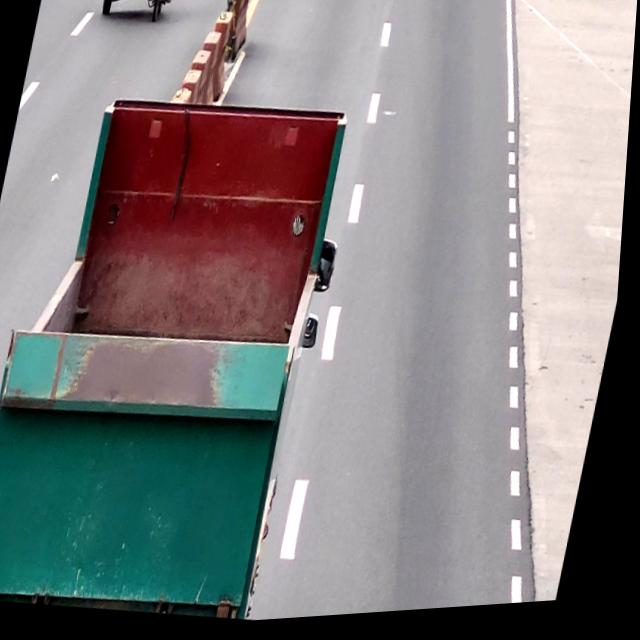Truck: (0, 74, 370, 640)
